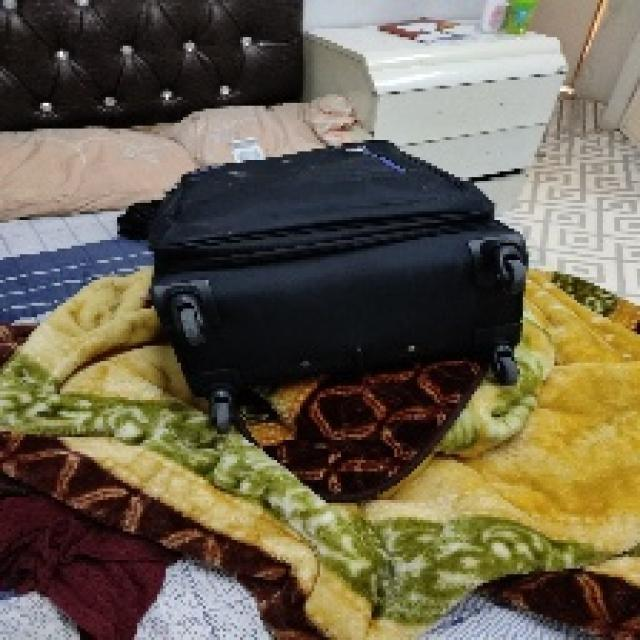Suitcase: (132, 143, 546, 434)
